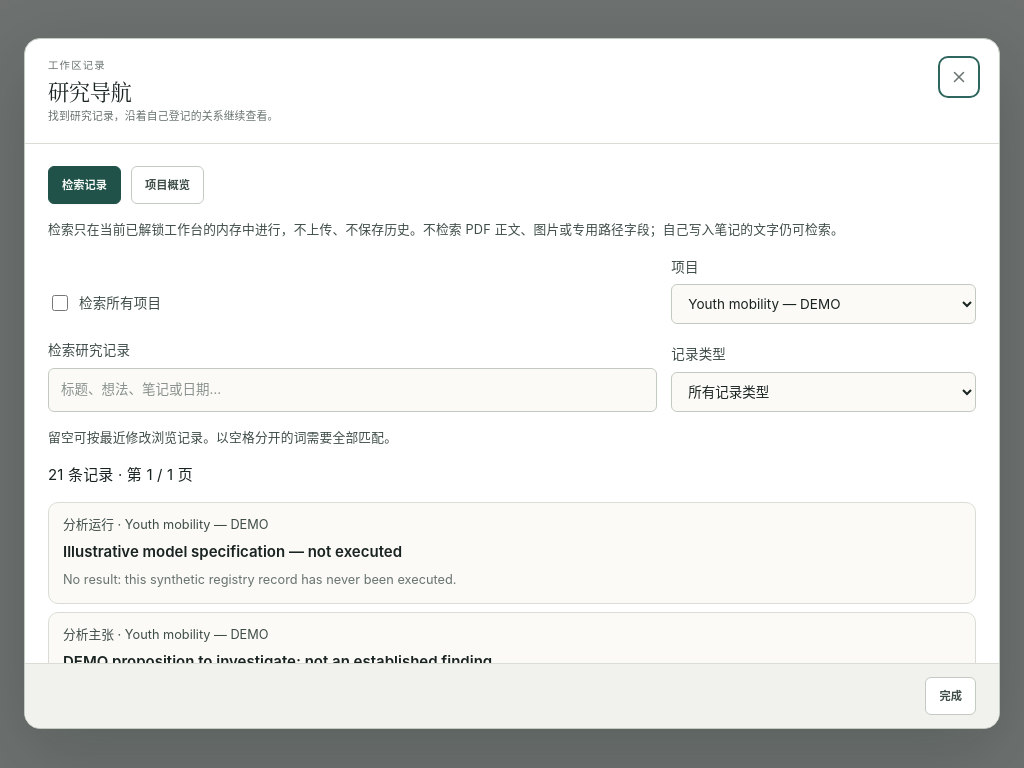
Test: read-only bilingual research navigator › searches complete-workspace notes only after explicit cross-project selection and never writes
The image size is (1024, 768).
Type "跨模块 匹配" into the search field labelled "检索研究记录". click: (353,390)
box: [48,369,657,412]
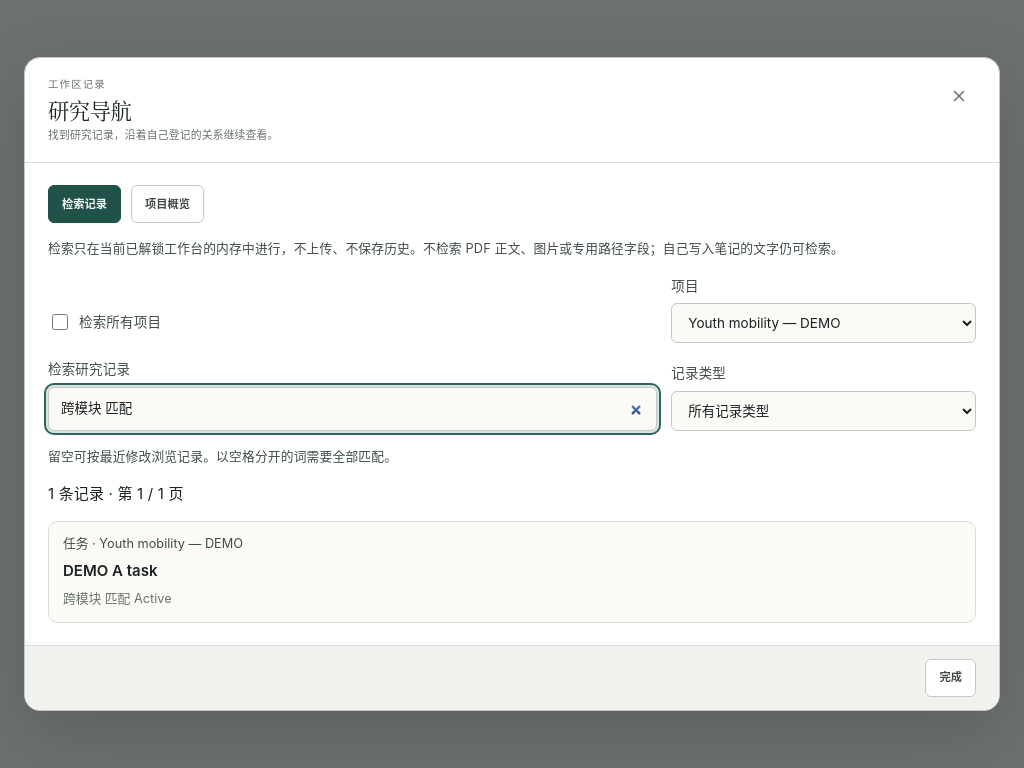
Expected: the button "DEMO B task" is not shown
Expected: the button "任务 · Youth mobility — DEMO DEMO A task 跨模块 匹配 Active" is shown, [48,521,976,623]
Click the checkbox labelled "检索所有项目". click: (60,322)
box: [52,314,68,330]
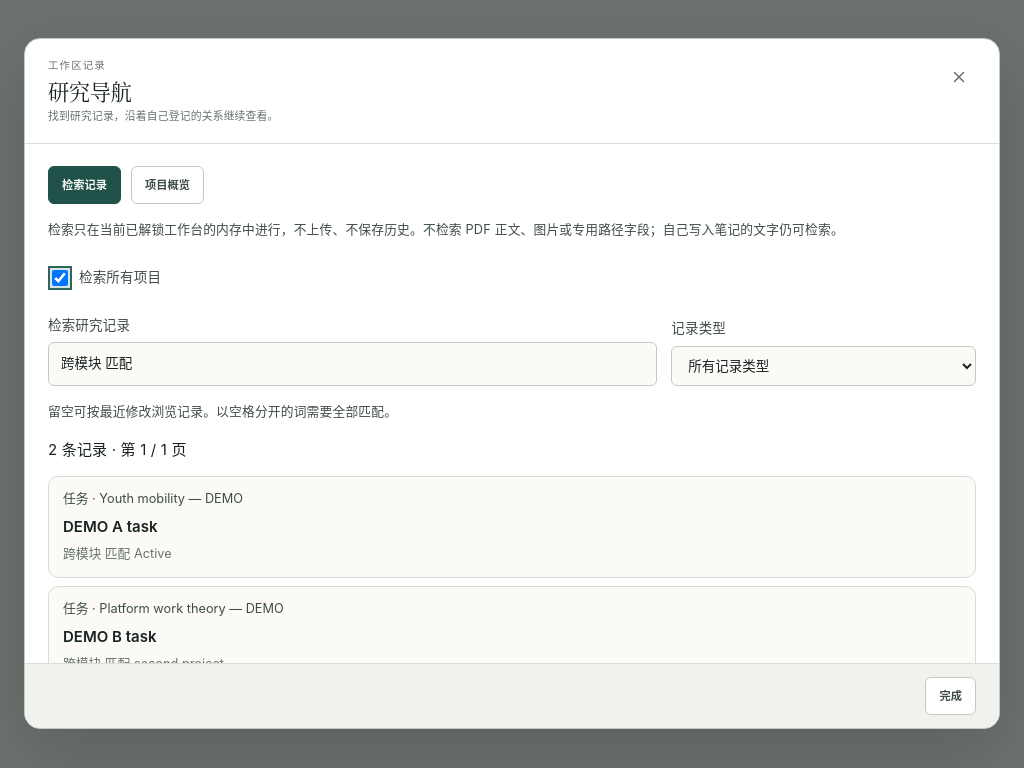
Select "任务" in the dropdown labelled "记录类型". click: (824,367)
box: [671,347,976,387]
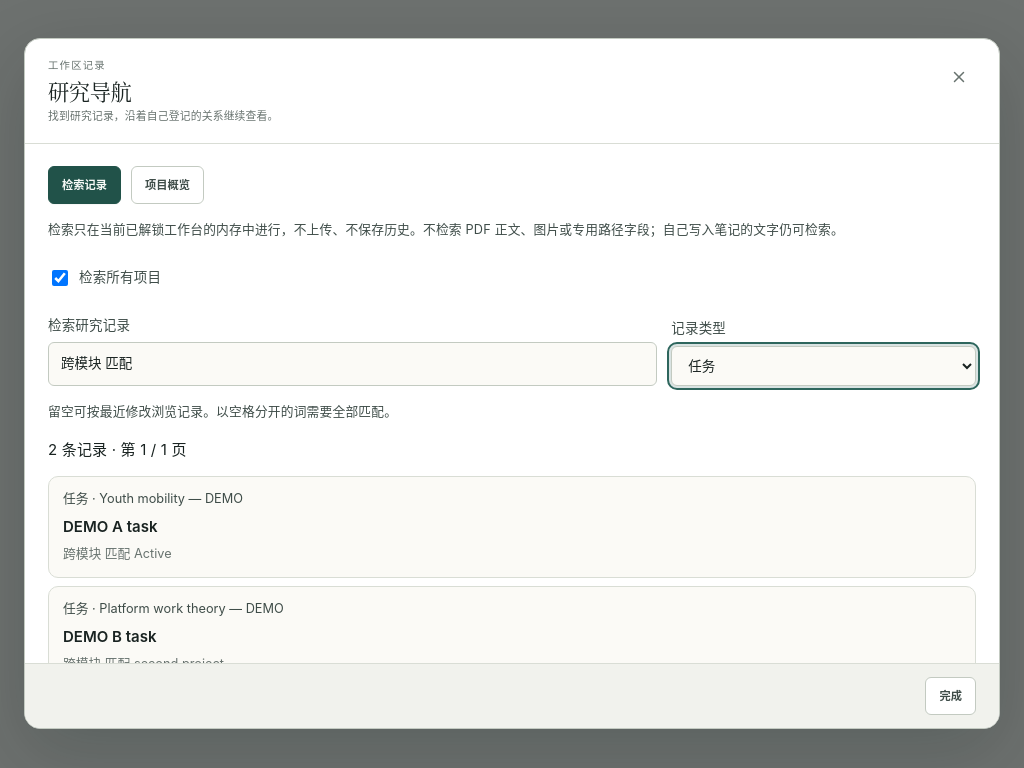
Click the button "DEMO B task". click: (192,609)
box: [48,587,976,688]
(page scrolled)
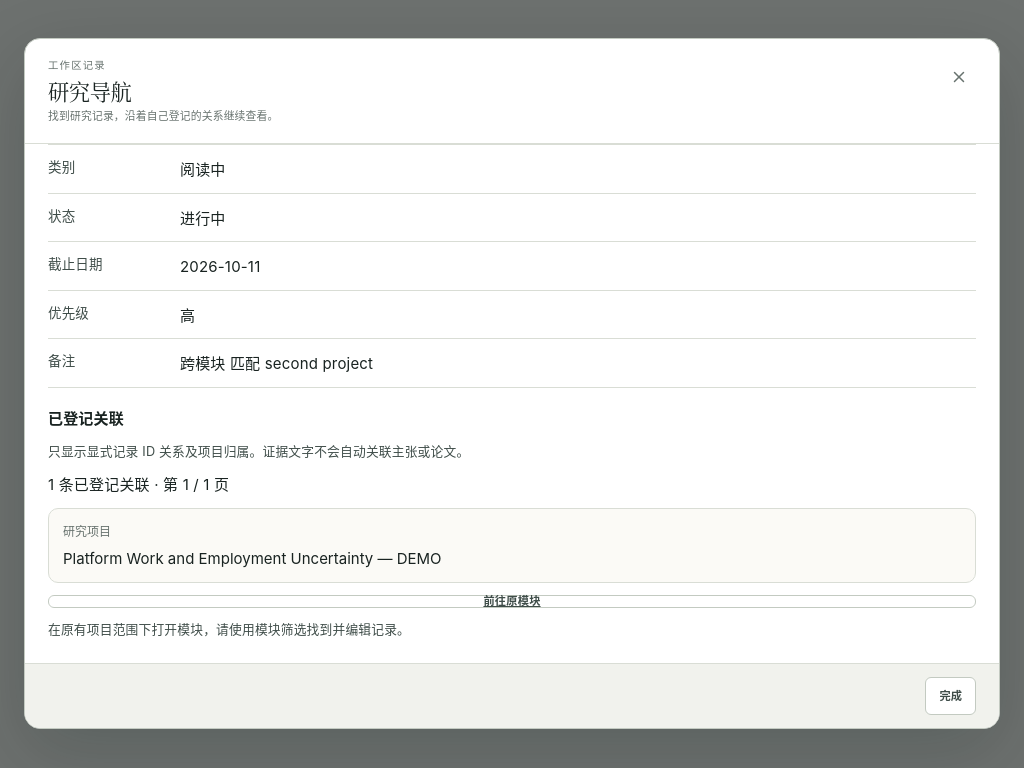
Expected: the element named "记录详情" shows "跨模块 匹配 second project", [180,355,373,374]
